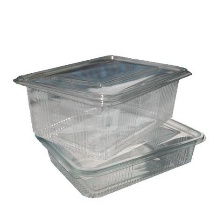plastic_box: (8, 49, 197, 164), (27, 98, 209, 201)
